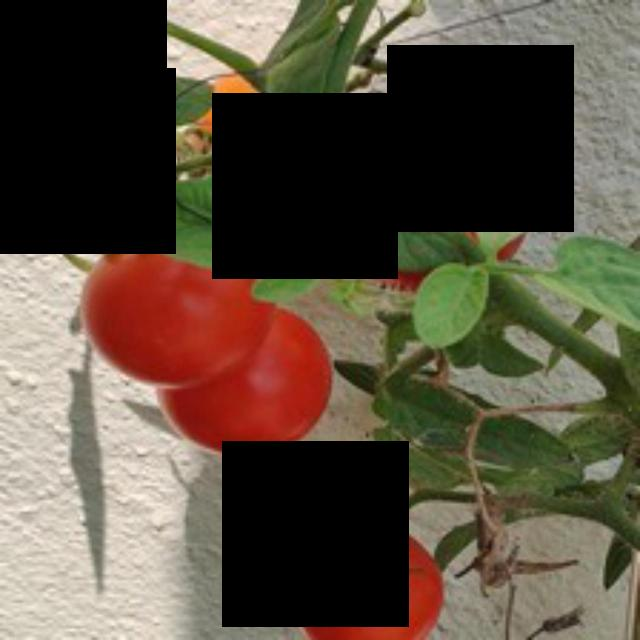tomato: (66, 224, 294, 404), (272, 504, 459, 640)
